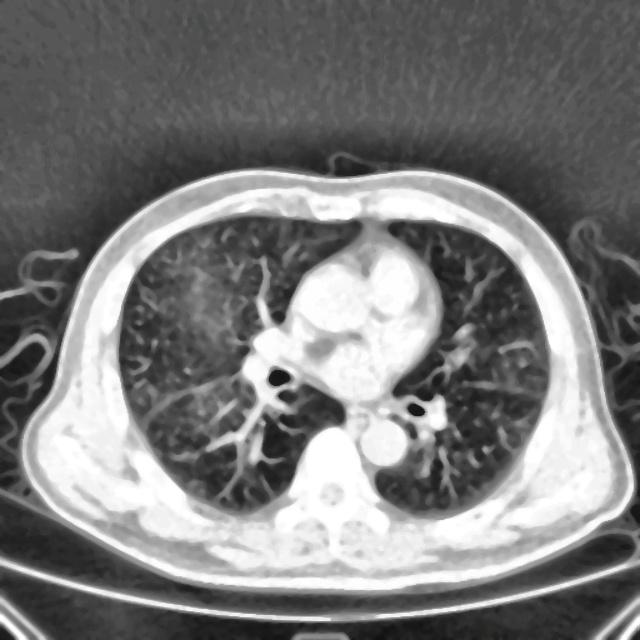covid: (19, 164, 635, 596)
